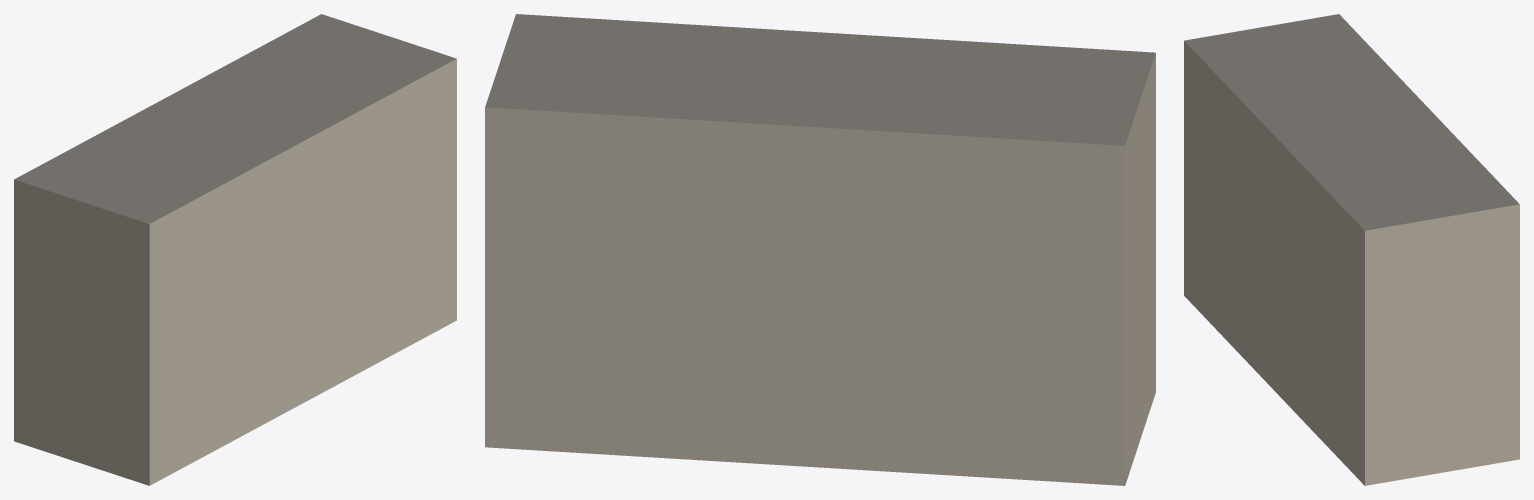
3 renders of one model, left to right at view 1: azimuth 30°, elevation 25°; view 2: azimuth 150°, elevation 25°; view 3: azimuth 270°, elevation 25°, orthographic. The views are drawn at different scales.
Visible parts, largest first — view 1: HP-w1435294150; view 2: HP-w1435294150; view 3: HP-w1435294150.
Boxes of the visible parts, x1,y1,x2,y2 form: HP-w1435294150: (14, 14, 456, 485); HP-w1435294150: (485, 14, 1155, 485); HP-w1435294150: (1184, 14, 1519, 485).
Size of the model in its own units: 32.8 by 18 by 21.47.
